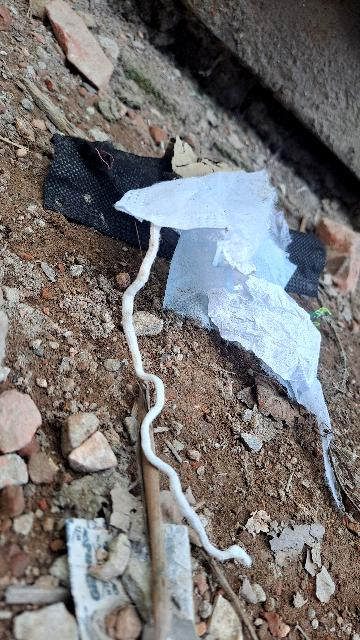mask: (149, 164, 330, 451)
